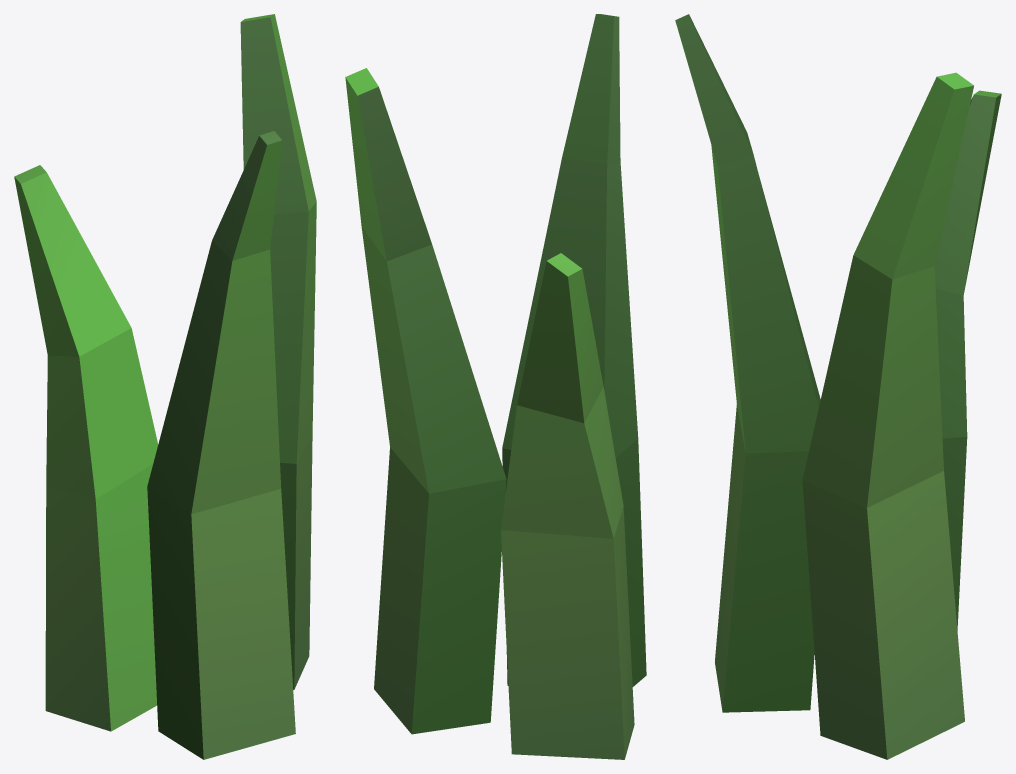
The model's file is Grass1.fbx.
3 renders of one model, left to right at view 1: azimuth 30°, elevation 25°; view 2: azimuth 150°, elevation 25°; view 3: azimuth 270°, elevation 25°, orthographic. The views are drawn at different scales.
Visible parts, largest first — view 1: Grass1; view 2: Grass1; view 3: Grass1.
Part boxes in pixels (box(x1,y1,x2,y2)): Grass1: box(14, 14, 316, 759); Grass1: box(345, 14, 646, 759); Grass1: box(675, 14, 1001, 759).
Size of the model in its own units: 18.04 by 40.9 by 17.94.
